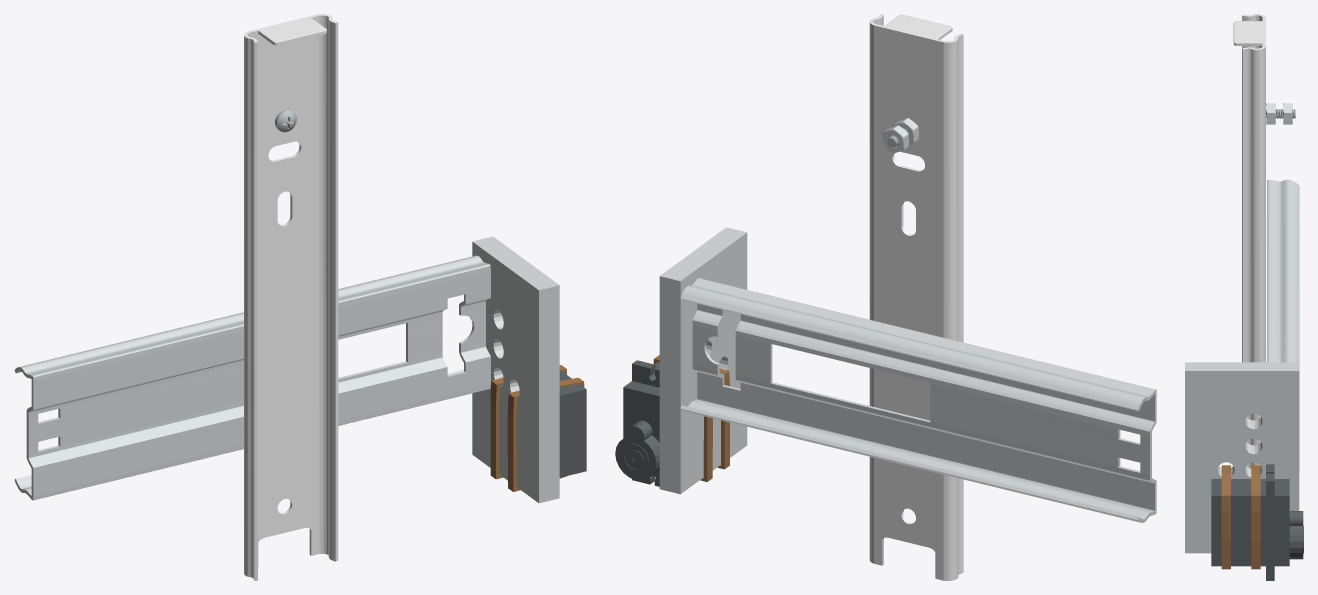
Rendered from tinker.obj.
3 views of the same model, side by side, from view 1: azimuth 30°, elevation 25°; view 2: azimuth 150°, elevation 25°; view 3: azimuth 270°, elevation 25° (orthographic). The views are drawn at different scales.
Parts seen in each view (by area): view 1: group_0_14541540, group_0_16448250, group_0_6383466, group_0_11107152; view 2: group_0_14541540, group_0_16448250, group_0_6383466, group_0_11107152; view 3: group_0_14541540, group_0_16448250, group_0_6383466, group_0_11107152.
Part boxes in pixels (x1,y1,x2,y2): group_0_14541540: (14, 236, 559, 503); group_0_16448250: (244, 14, 338, 580); group_0_6383466: (559, 372, 586, 477); group_0_11107152: (490, 365, 584, 491); group_0_14541540: (659, 118, 1156, 522); group_0_16448250: (869, 14, 963, 580); group_0_6383466: (615, 360, 659, 486); group_0_11107152: (653, 355, 729, 481); group_0_14541540: (1185, 103, 1299, 553); group_0_16448250: (1233, 14, 1265, 468); group_0_6383466: (1211, 464, 1303, 580); group_0_11107152: (1221, 465, 1260, 569).
Bounding box in the file's own units: 151 × 148 × 34.56.
